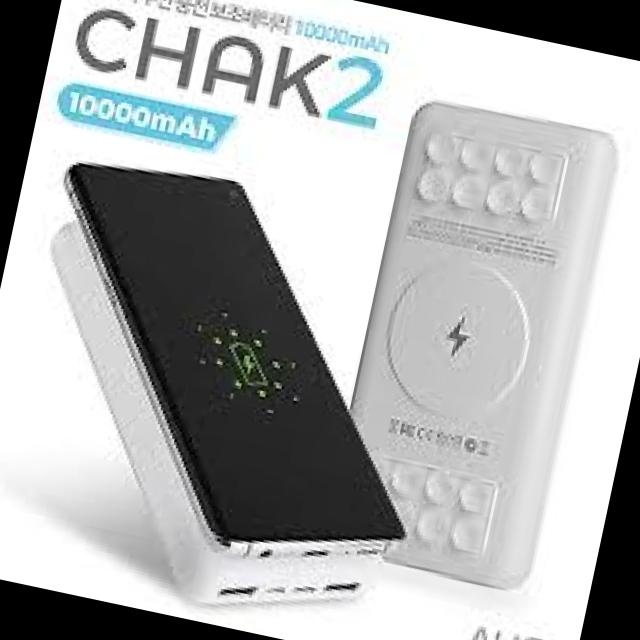power_bank: (0, 217, 433, 638), (312, 90, 626, 600)
